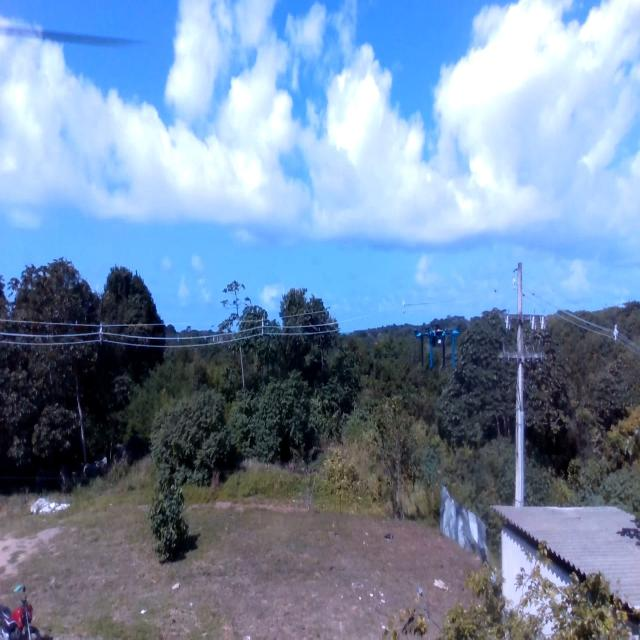-uav-: (410, 317, 469, 384)
